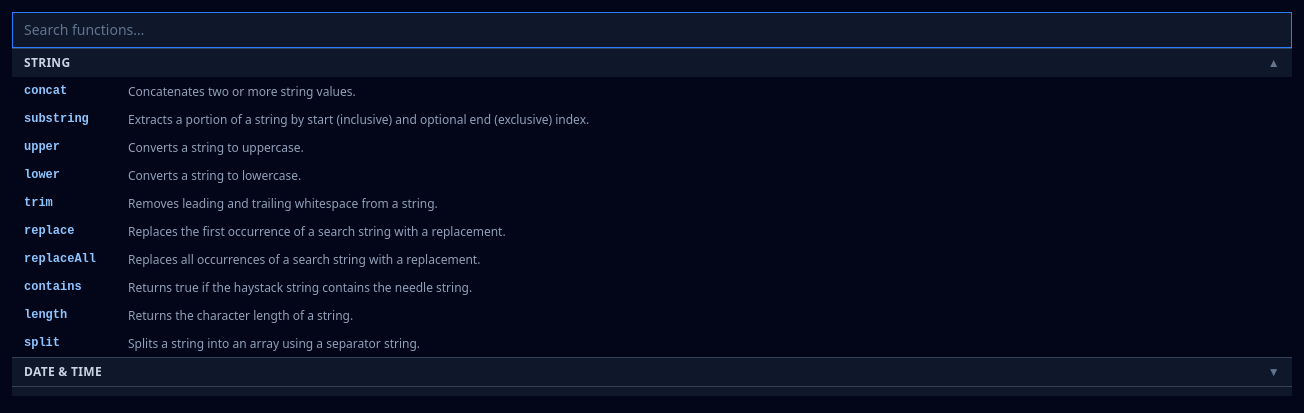
Test: TransformFunctionPicker › search filters functions by name
Type "upper" into the field with test id "transform-function-search".
click(652, 30); type("upper")  # box left=12, top=12, right=1292, bottom=48
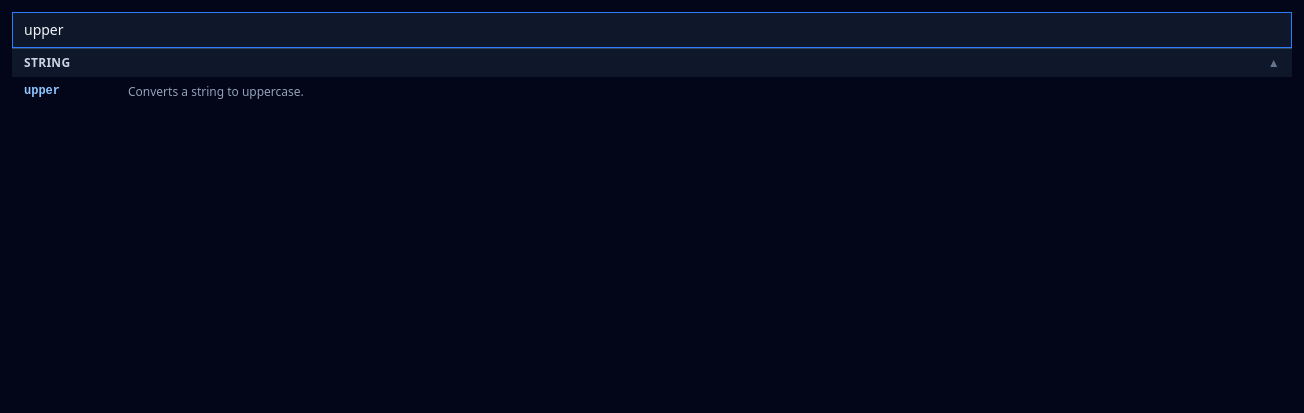
Expected: the button with test id "transform-fn-upper" is shown, left=12, top=77, right=1292, bottom=105
Expected: the button with test id "transform-fn-lower" is gone
